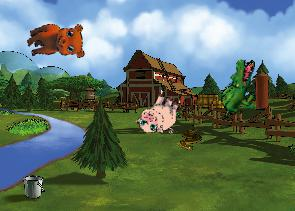bear: (23, 16, 89, 70)
crocodile: (219, 58, 257, 119)
pig: (133, 87, 185, 141)
